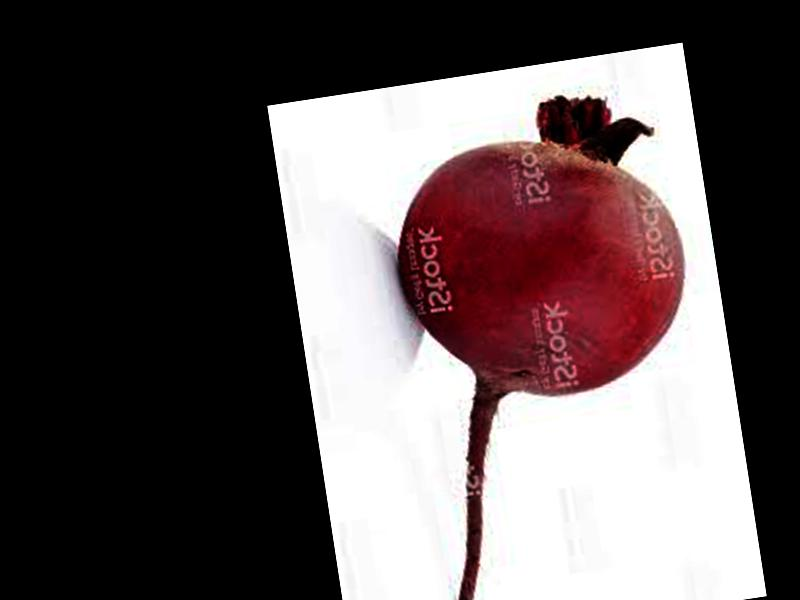Beet: (377, 83, 729, 600)
